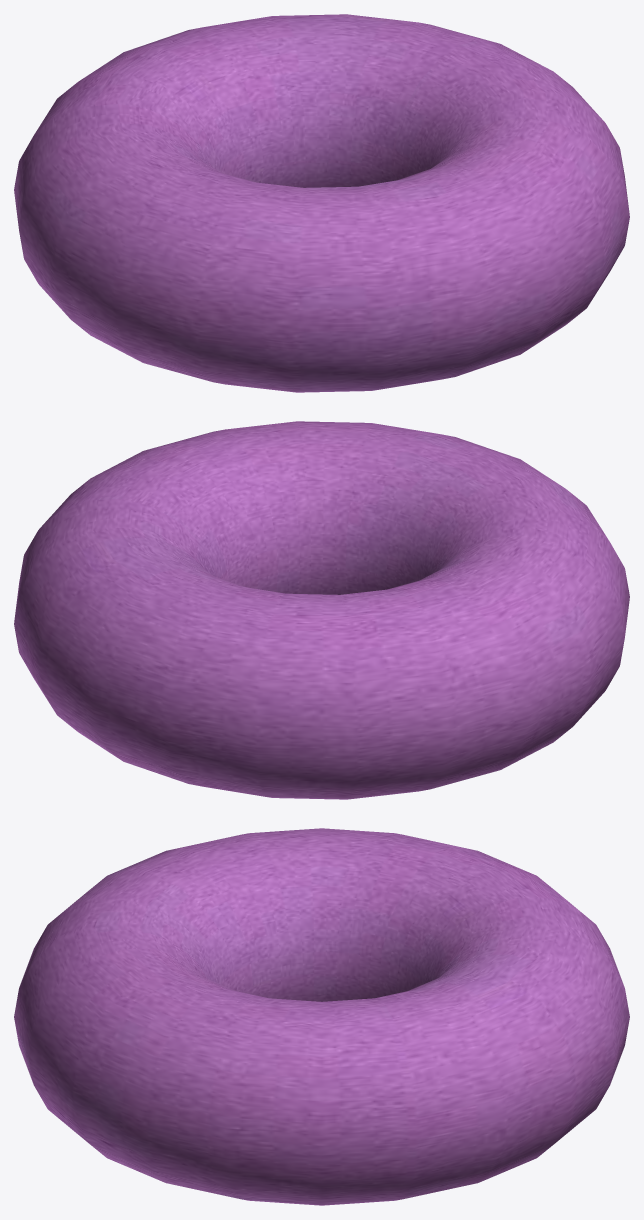
File: donut.obj
3 views of the same model, one above another, from view 1: azimuth 30°, elevation 25°; view 2: azimuth 150°, elevation 25°; view 3: azimuth 270°, elevation 25° (orthographic).
Parts seen in each view (by area): view 1: pTorus1; view 2: pTorus1; view 3: pTorus1.
Part boxes in pixels (x1,y1,x2,y2): pTorus1: (14,14,629,392); pTorus1: (14,421,629,799); pTorus1: (14,828,629,1205).
Bounding box in the file's own units: 3.6 × 1.2 × 3.6.
1 material, 1 textured.
